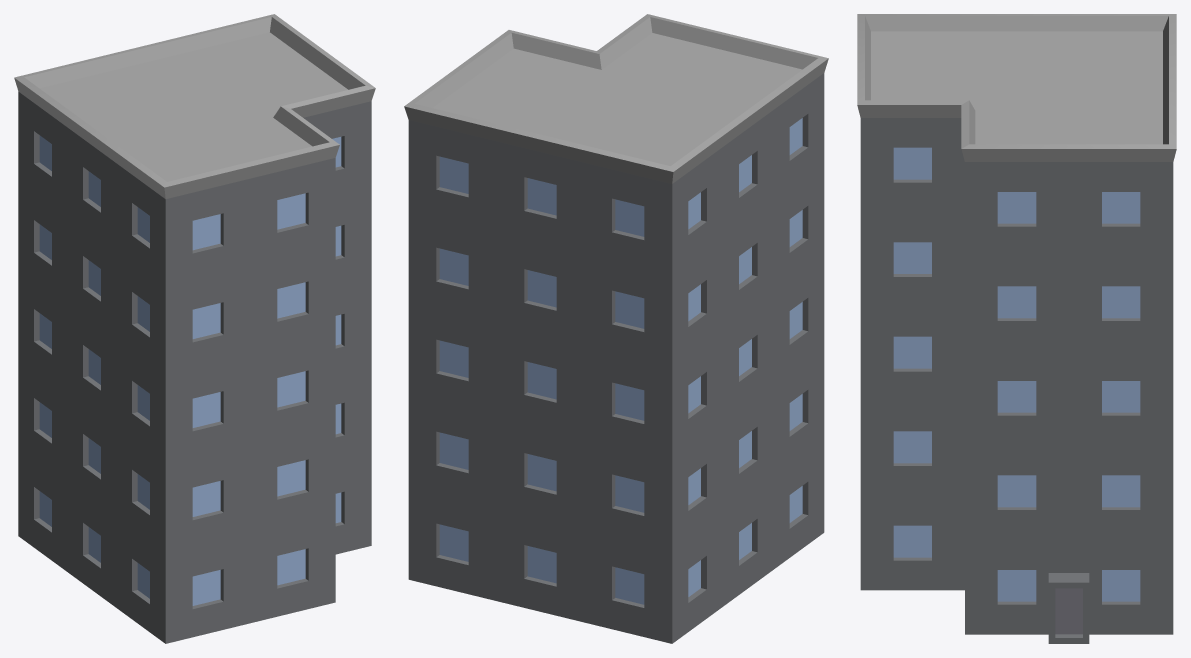
The model's file is Building3.fbx.
3 views of the same model, side by side, from view 1: azimuth 30°, elevation 25°; view 2: azimuth 150°, elevation 25°; view 3: azimuth 270°, elevation 25° (orthographic). The views are drawn at different scales.
Parts seen in each view (by area): view 1: building3:Mesh1; view 2: building3:Mesh1; view 3: building3:Mesh1.
Part boxes in pixels (x1,y1,x2,y2): building3:Mesh1: [14, 14, 375, 643]; building3:Mesh1: [404, 14, 828, 643]; building3:Mesh1: [857, 14, 1176, 643].
Bounding box in the file's own units: 32.47 × 51.68 × 30.65.
